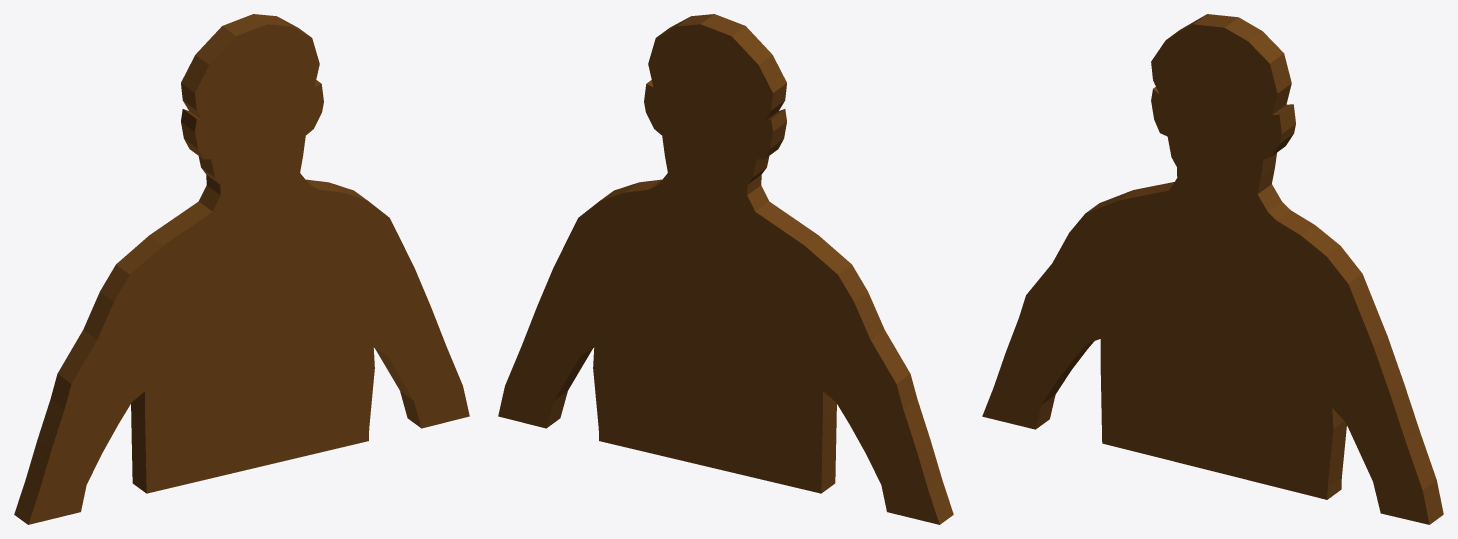
File: human_target.fbx
3 views of the same model, side by side, from view 1: azimuth 30°, elevation 25°; view 2: azimuth 150°, elevation 25°; view 3: azimuth 330°, elevation 25° (orthographic).
Visible parts, largest first — view 1: Plane.001; view 2: Plane.001; view 3: Plane.001.
Boxes of the visible parts, x1,y1,x2,y2 form: Plane.001: [14, 14, 469, 524]; Plane.001: [498, 14, 953, 524]; Plane.001: [982, 14, 1443, 524].
Size of the model in its own units: 363 by 347 by 20.
1 material, 1 textured.
